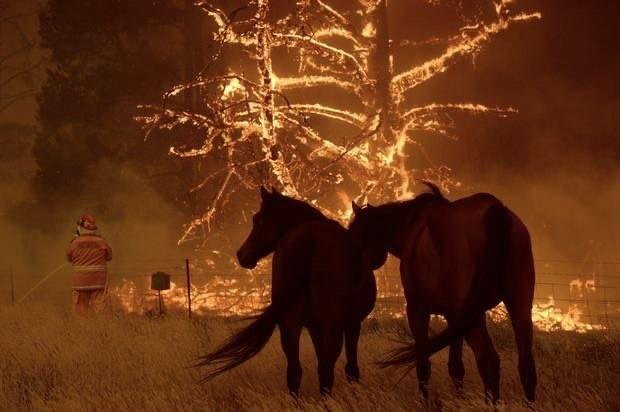fire: (184, 0, 417, 194), (129, 256, 260, 318), (522, 282, 597, 342)
